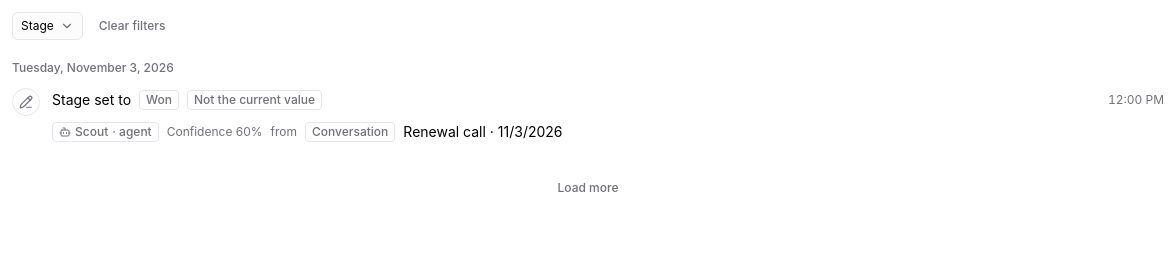
it: RecordHistory › loads older pages with the cursor and the same filter
expect the text "Stage set to" is shown: met, box [52, 90, 131, 110]
Click the button "Load more" at {"x": 588, "y": 188}, box [550, 174, 626, 202]
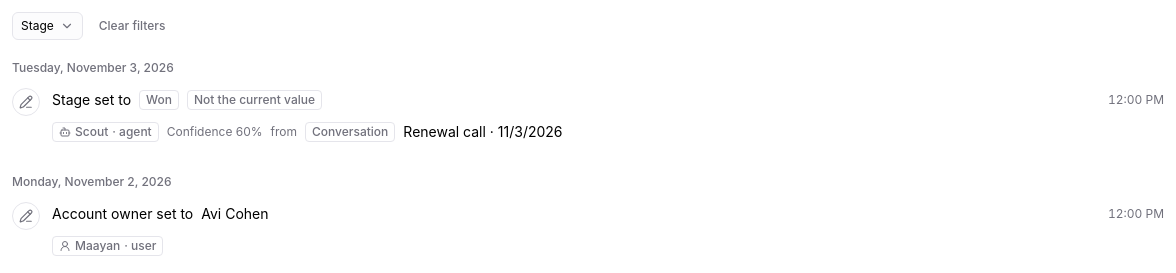
expect the text "Stage set to" is shown: met, box [52, 90, 131, 110]
expect the text "Account owner set to" is shown: met, box [52, 204, 193, 224]
expect the button "Load more" is gone: met
